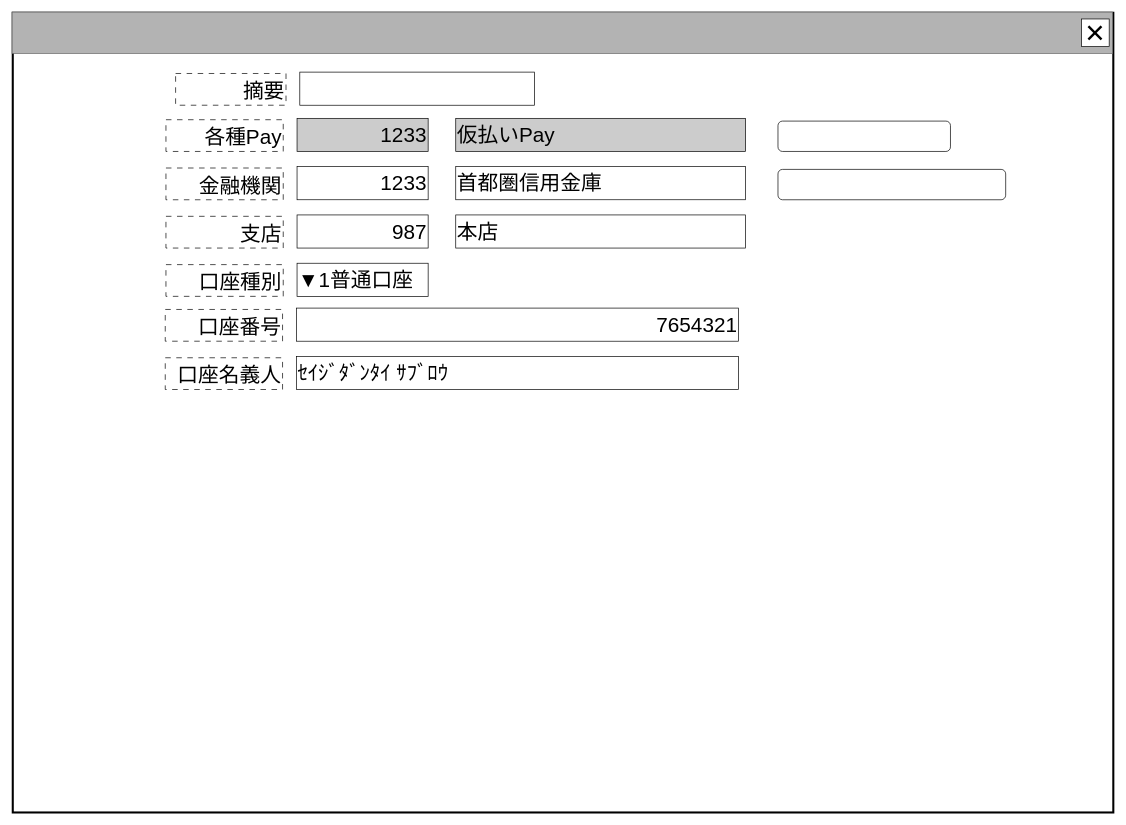
The diagram is 1126 pixels wide and 825 high, and some of its shapes have lost their labels. Here are the shapes that lost their labels. From the top down, the centre of each, then its label:
pixel 416 88: ﾌﾘｺﾐ ｾｲｼﾞﾀﾞﾝﾀｲ ｻﾌﾞﾛｳ
pixel 863 135: 各種Pay検索
pixel 891 184: 全銀金融機関検索
